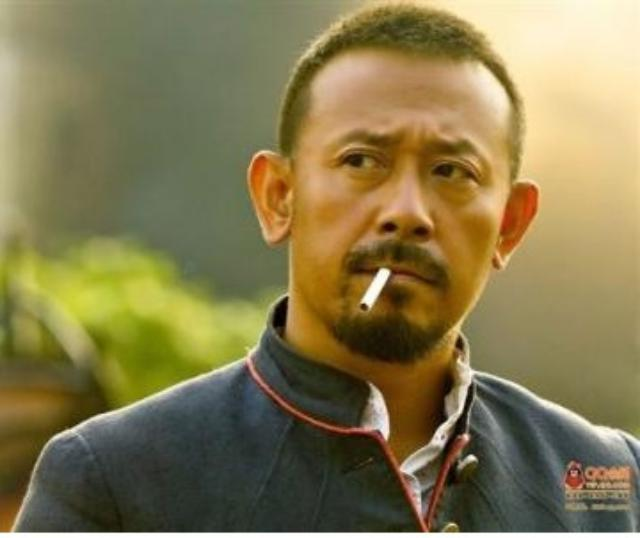SafeDriving: (419, 140, 488, 194), (328, 132, 392, 181)
Smoking: (354, 266, 392, 317)
